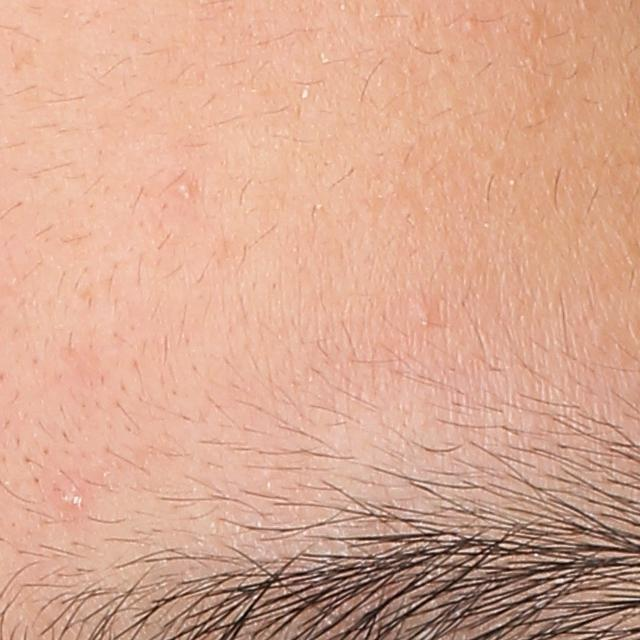comedo: (402, 291, 441, 330), (518, 10, 541, 44), (168, 175, 198, 200), (459, 9, 482, 36)
